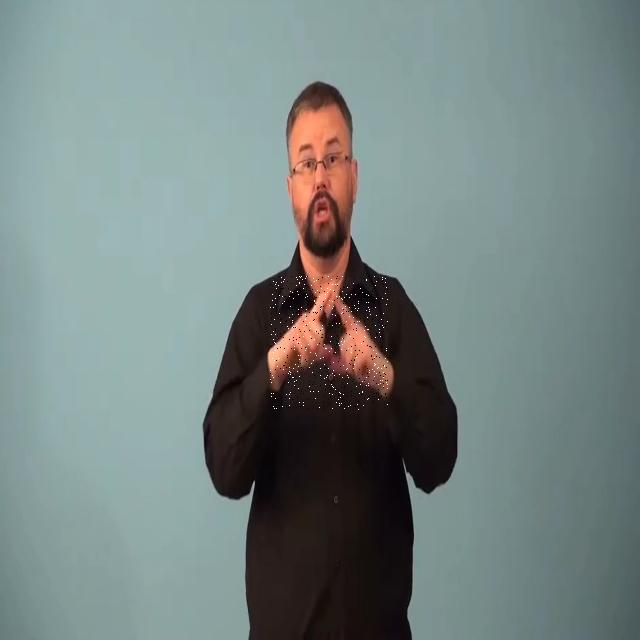cash: (270, 276, 388, 410)
